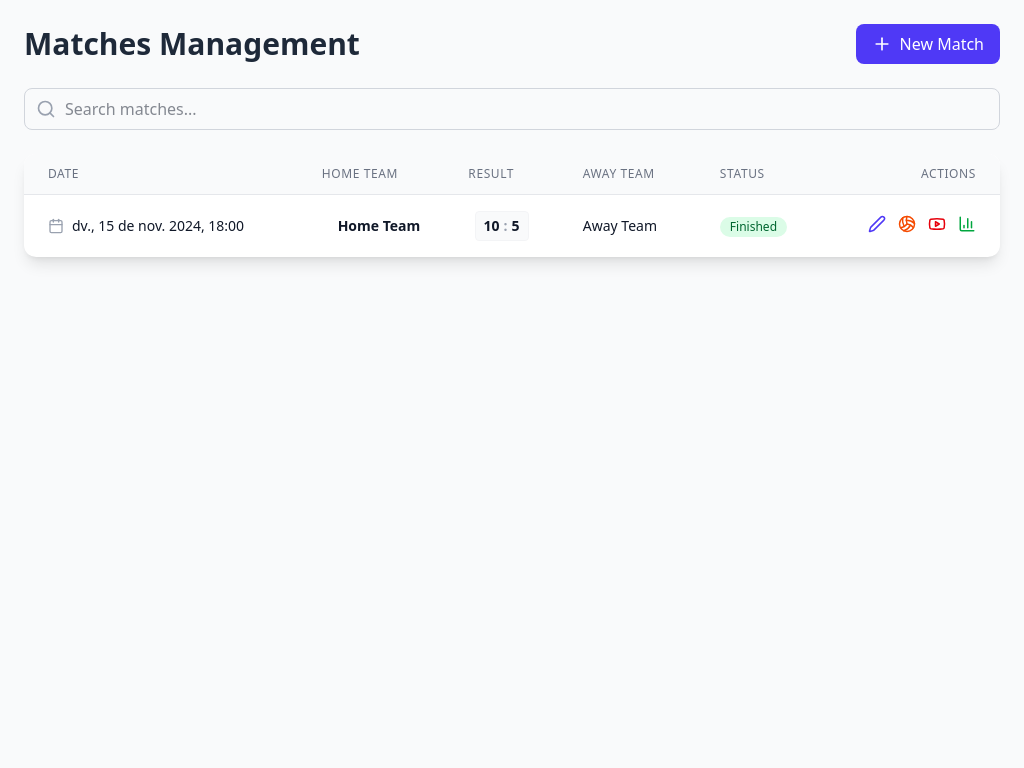
Statistics Flow Integration › calculates zone statistics correctly
Note: Open stats
Click the button titled "View Statistics" at (967, 224), box [958,214,976,232]
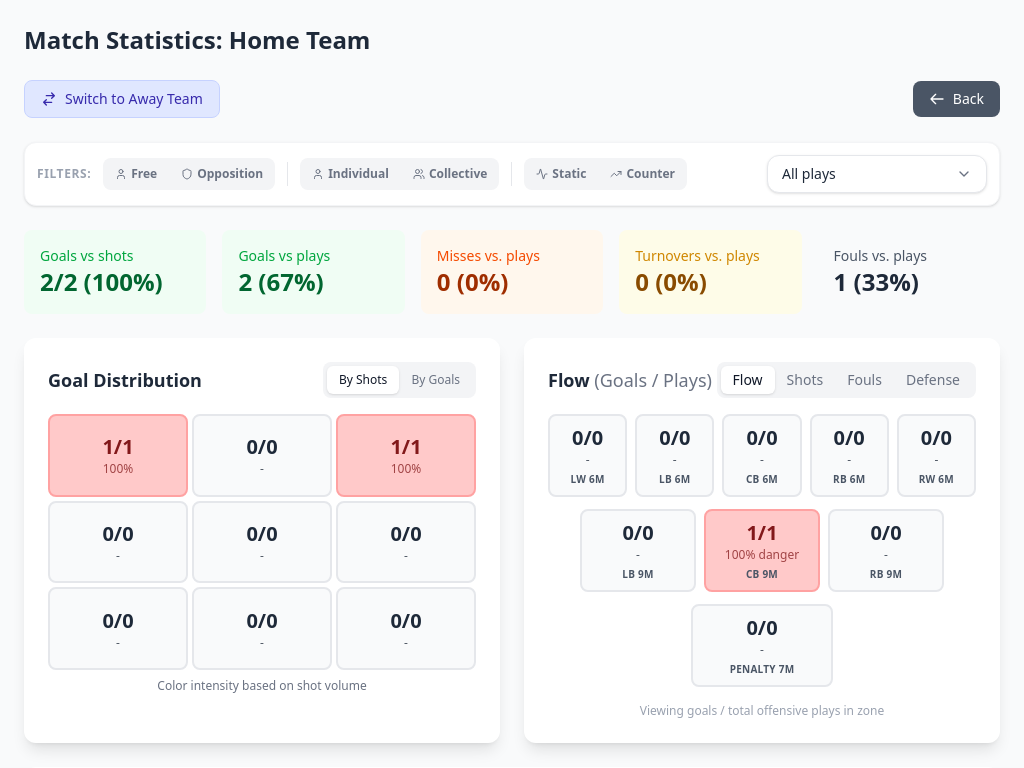
Now the heading "Match Statistics: Home Team" is shown, box [24,23,370,56]
Now the button "1/1 100% danger CB 9m" is shown, box [704,509,820,592]
